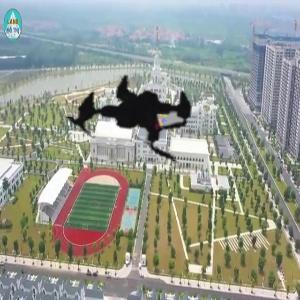drone: (40, 31, 227, 218)
